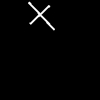single_crochet: (29, 2, 54, 29)
